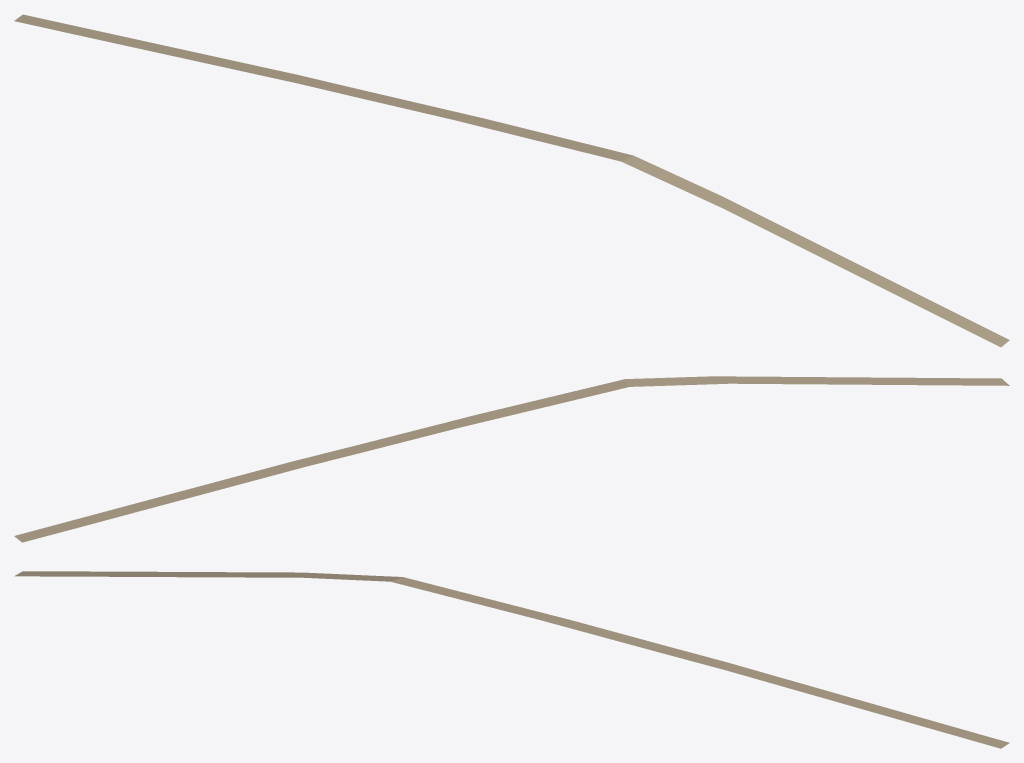
The model's file is farm_-26_-27_track.glb.
The picture shows the model from 3 angles, top to bottom: view 1: azimuth 90°, elevation 25°; view 2: azimuth 150°, elevation 25°; view 3: azimuth 270°, elevation 25°; orthographic projection.
Visible parts, largest first — view 1: geometry_0; view 2: geometry_0; view 3: geometry_0.
Part boxes in pixels (x1=…): geometry_0: x1=14, y1=14, x2=1009, y2=347; geometry_0: x1=14, y1=376, x2=1009, y2=542; geometry_0: x1=14, y1=571, x2=1009, y2=748.
Bounding box in the file's own units: 114 × 18.92 × 188.
